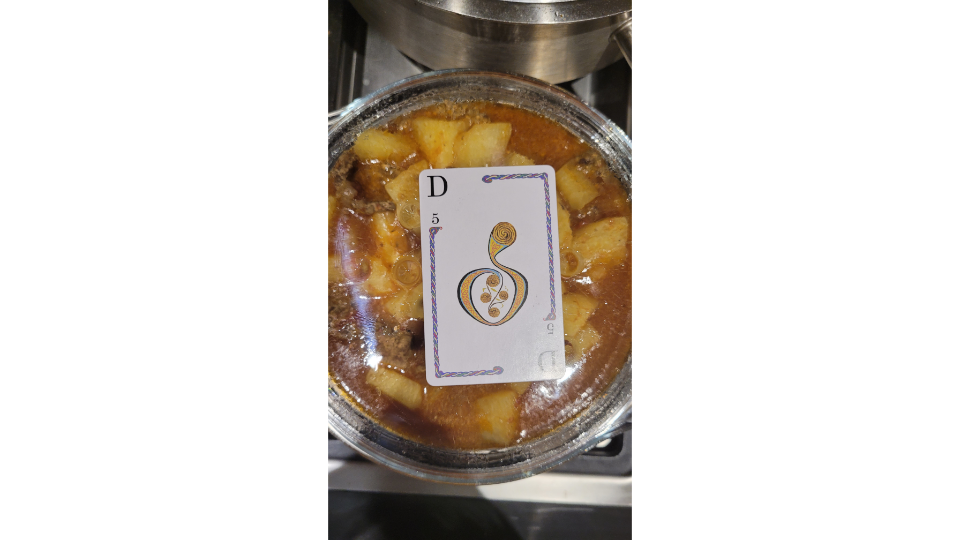D: (415, 161, 570, 388)
